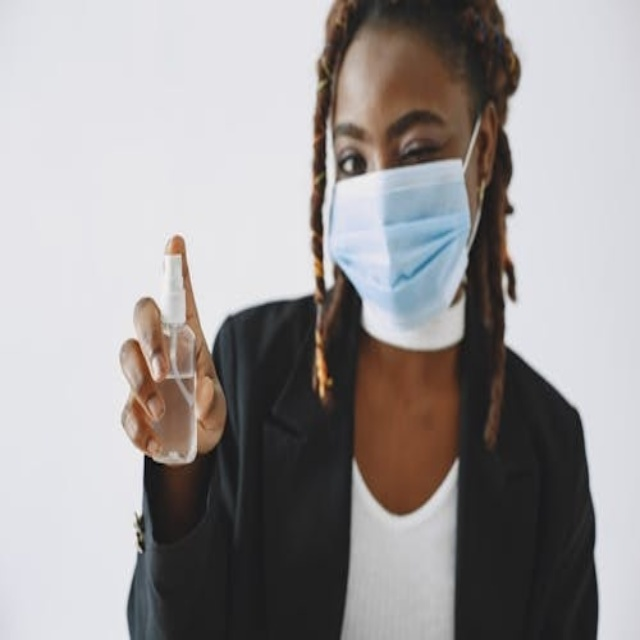Mascara: (325, 108, 489, 339)
Sin_gafas: (330, 102, 475, 179)
Sin_guantes: (119, 233, 229, 466)
